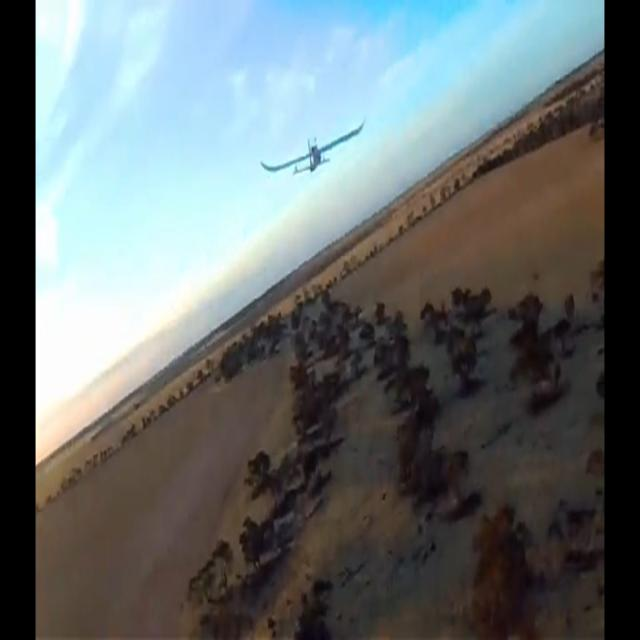iha: (292, 116, 334, 177)
